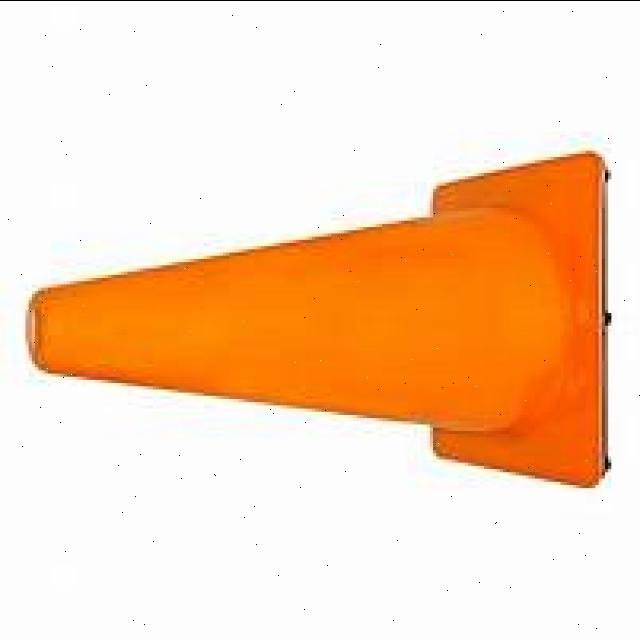traffic cone: (16, 143, 618, 498)
